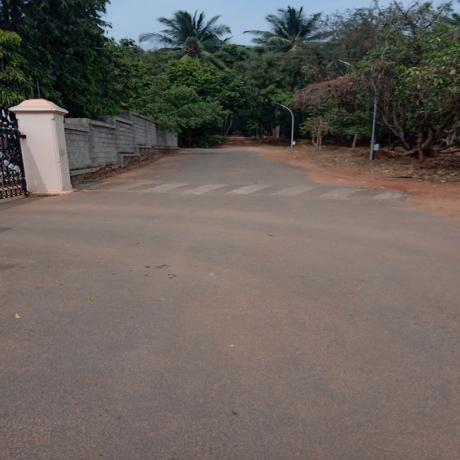Speed Bump: (78, 178, 412, 204)
